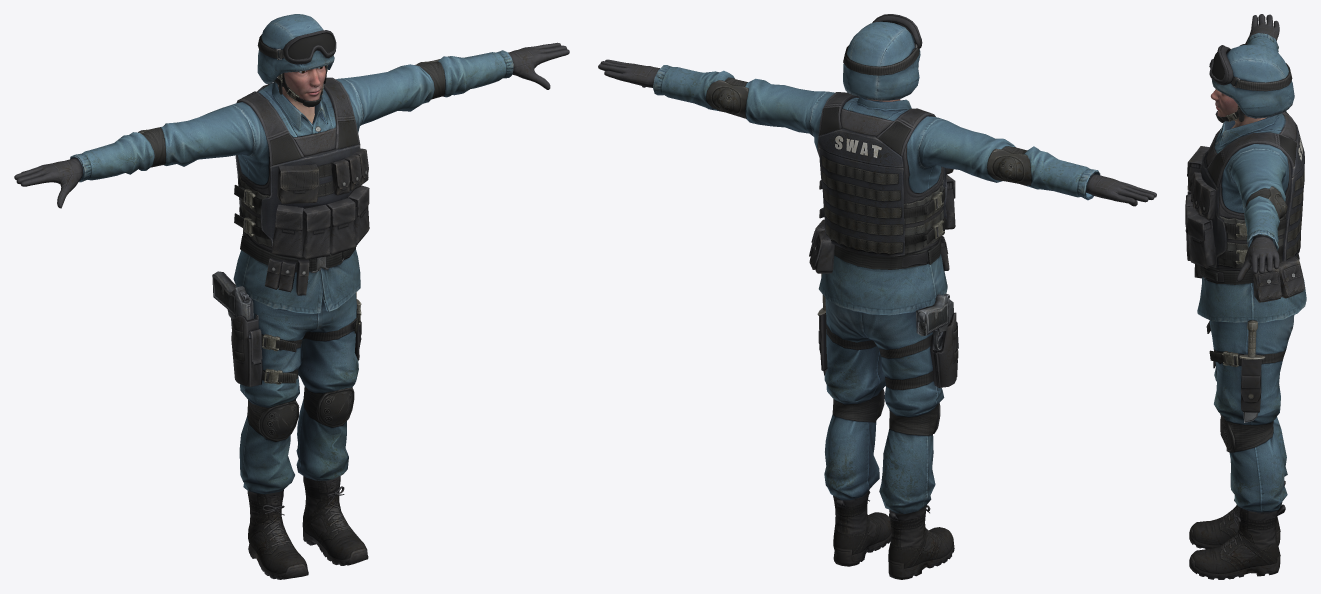
File: character.fbx
3 renders of one model, left to right at view 1: azimuth 30°, elevation 25°; view 2: azimuth 150°, elevation 25°; view 3: azimuth 270°, elevation 25°, orthographic. The views are drawn at different scales.
Visible parts, largest first — view 1: Null; view 2: Null; view 3: Null.
Boxes of the visible parts, <box> form: Null: <box>14,14,569,579</box>; Null: <box>598,14,1156,579</box>; Null: <box>1185,14,1306,579</box>.
Bounding box in the file's own units: 192 × 178 × 38.53.
Materials: 2 (2 with a texture image).
